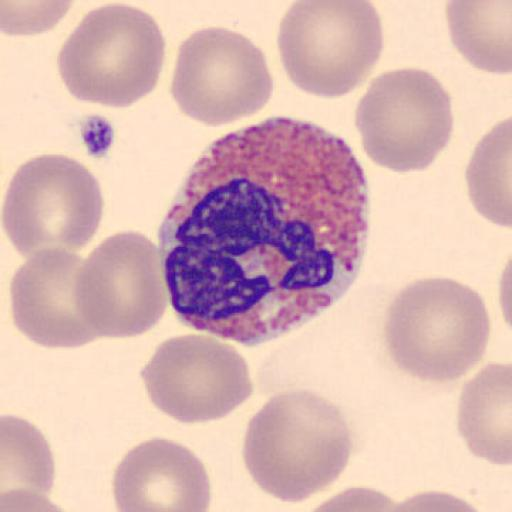RBC: (240, 387, 354, 506), (56, 0, 166, 110), (381, 275, 491, 384), (0, 151, 105, 264), (275, 0, 386, 102), (353, 65, 455, 175), (140, 331, 254, 426), (168, 26, 274, 128), (71, 230, 168, 340), (10, 245, 101, 350), (110, 434, 213, 512), (455, 360, 512, 468), (465, 113, 512, 231), (445, 0, 512, 76), (2, 412, 56, 502), (300, 484, 404, 512), (1, 0, 77, 38), (385, 488, 491, 512), (0, 485, 84, 512), (496, 242, 512, 353), (498, 251, 512, 337)
WBC: (160, 113, 370, 345)
